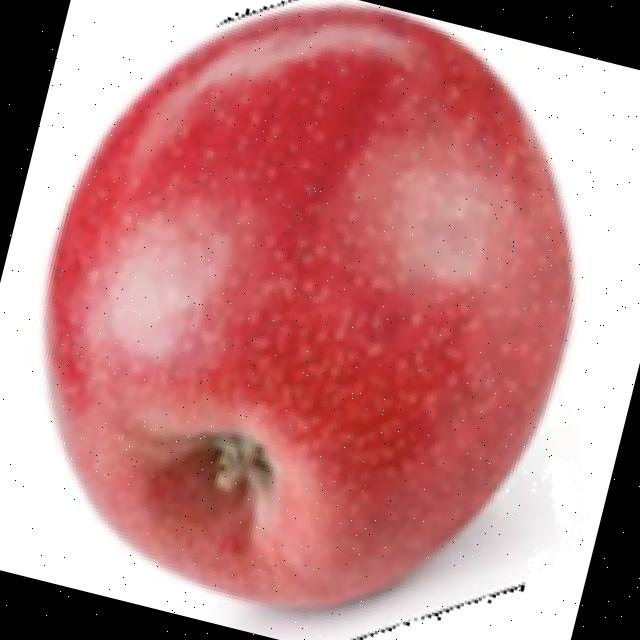apple: (34, 0, 580, 640)
